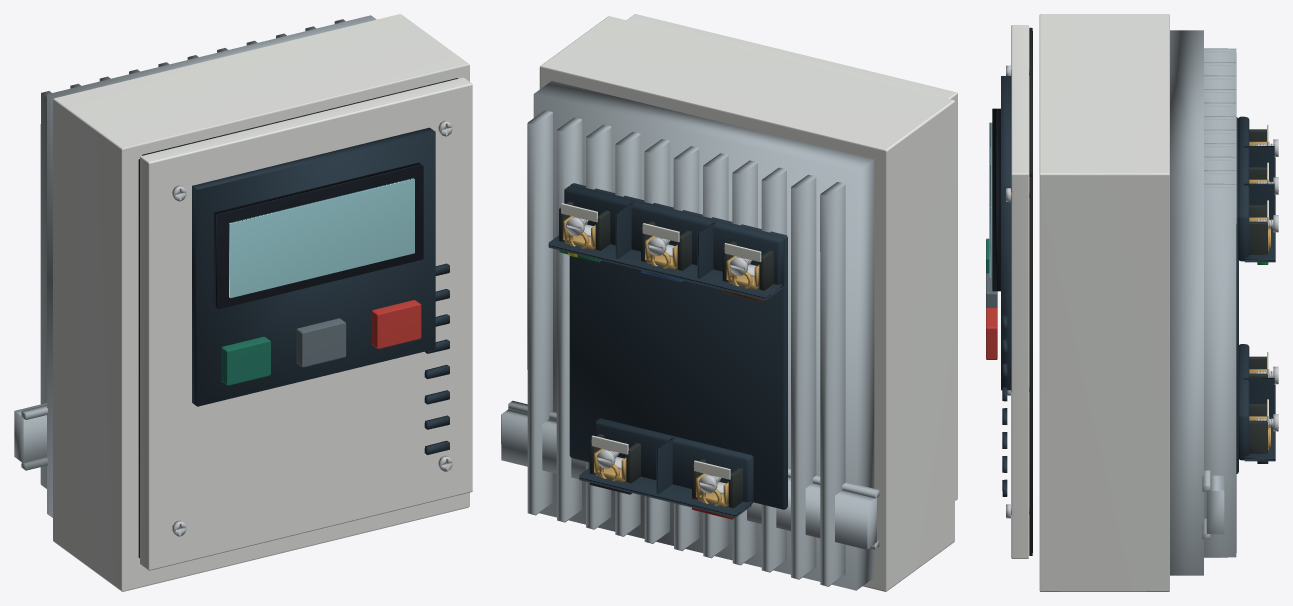
The picture shows the model from 3 angles, left to right: view 1: azimuth 30°, elevation 25°; view 2: azimuth 150°, elevation 25°; view 3: azimuth 270°, elevation 25°; orthographic projection. The views are drawn at different scales.
Parts seen in each view (by area): view 1: part:cover, part:body, part:cover · Original a463fd81, part:display, part:body · Original 2a8198d3, part:body.002, part:body.003, part:body.001, part:mounting · Original 2a8198d3, detail:enclosure-gasket-and-fixings · Detail rubber gasket, detail:enclosure-gasket-and-fixings · Detail zinc plated fix; view 2: part:body · Original 2a8198d3, part:body, part:terminals · Original a463fd81, part:mounting · Original 2a8198d3, part:cover, detail:terminal-clamp:- · Detail moulded engineering polymer, detail:terminal-clamp:PE · Detail moulded engineering polyme, detail:terminal-clamp:L · Detail moulded engineering polymer, detail:terminal-clamp:+ · Detail moulded engineering polymer, detail:terminal-clamp:N · Detail moulded engineering polymer; view 3: part:body, part:body · Original 2a8198d3, part:cover, part:terminals · Original a463fd81, part:cover · Original a463fd81, part:display, detail:enclosure-gasket-and-fixings · Detail rubber gasket, part:mounting · Original 2a8198d3, detail:terminal-clamp:- · Detail moulded engineering polymer, detail:terminal-clamp:PE · Detail moulded engineering polyme, part:body.003.
Boxes of the visible parts, x1,y1,x2,y2 form: part:cover: [140, 77, 472, 570]; part:body: [53, 14, 469, 591]; part:cover · Original a463fd81: [192, 127, 449, 454]; part:display: [214, 162, 423, 309]; part:body · Original 2a8198d3: [40, 15, 376, 517]; part:body.002: [296, 318, 346, 367]; part:body.003: [371, 300, 421, 348]; part:body.001: [221, 336, 270, 385]; part:mounting · Original 2a8198d3: [14, 403, 47, 470]; detail:enclosure-gasket-and-fixings · Detail rubber gasket: [138, 78, 457, 558]; detail:enclosure-gasket-and-fixings · Detail zinc plated fix: [172, 120, 452, 536]; part:body · Original 2a8198d3: [527, 81, 874, 590]; part:body: [539, 16, 954, 591]; part:terminals · Original a463fd81: [548, 183, 787, 517]; part:mounting · Original 2a8198d3: [501, 400, 879, 549]; part:cover: [627, 14, 957, 500]; detail:terminal-clamp:- · Detail moulded engineering polymer: [589, 434, 640, 494]; detail:terminal-clamp:PE · Detail moulded engineering polyme: [559, 201, 610, 251]; detail:terminal-clamp:L · Detail moulded engineering polymer: [722, 241, 773, 291]; detail:terminal-clamp:+ · Detail moulded engineering polymer: [692, 459, 742, 508]; detail:terminal-clamp:N · Detail moulded engineering polymer: [641, 221, 691, 271]; part:body: [1039, 14, 1169, 591]; part:body · Original 2a8198d3: [1170, 30, 1236, 575]; part:cover: [1011, 25, 1028, 558]; part:terminals · Original a463fd81: [1236, 116, 1275, 473]; part:cover · Original a463fd81: [1001, 76, 1011, 496]; part:display: [989, 108, 1000, 291]; detail:enclosure-gasket-and-fixings · Detail rubber gasket: [1029, 27, 1032, 555]; part:mounting · Original 2a8198d3: [1202, 470, 1224, 539]; detail:terminal-clamp:- · Detail moulded engineering polymer: [1249, 403, 1268, 463]; detail:terminal-clamp:PE · Detail moulded engineering polyme: [1249, 204, 1268, 254]; part:body.003: [986, 308, 997, 359].
Bounding box in the file's own units: 1.16 × 1.34 × 0.8464.
